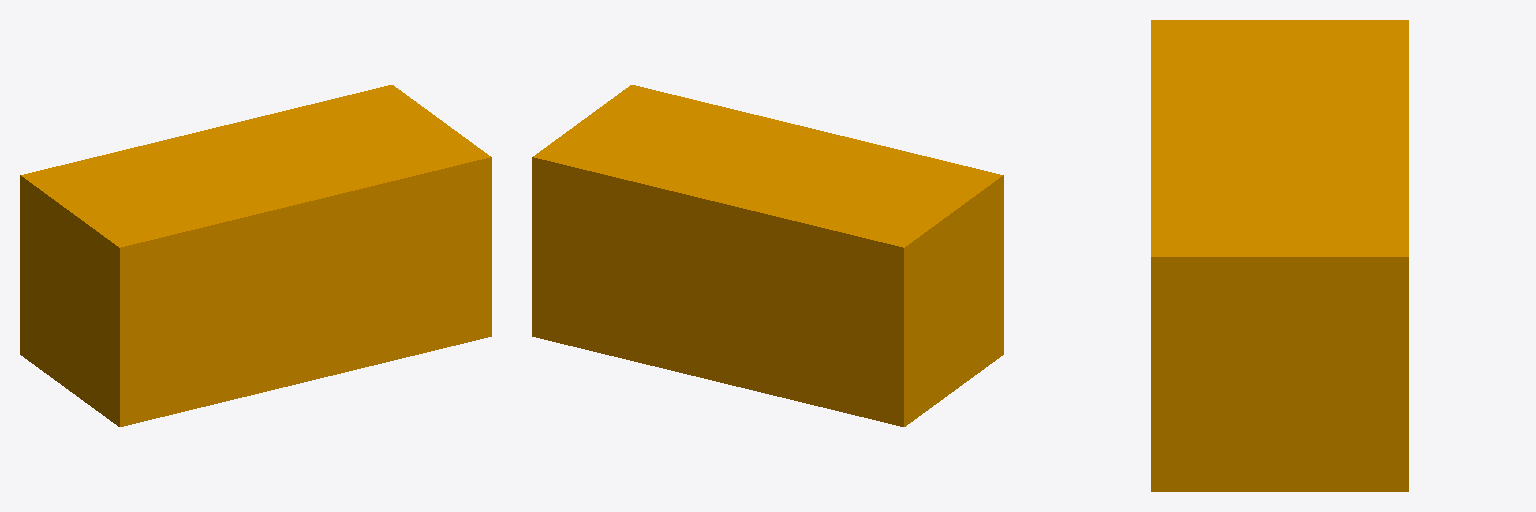
robot.urdf — object:
<?xml version="1.0"?>
<robot name="object">
  <link name="object">
    <visual>
      <origin xyz="0 0 0"/>
      <geometry>
        <mesh filename="package://object_datasets/3DPrintedShapes/meshes/13x6_cuboid.dae"/>
      </geometry>
    </visual>
    <collision>
      <origin xyz="0 0 0"/>
      <geometry>
        <mesh filename="package://object_datasets/3DPrintedShapes/meshes/13x6_cuboid.obj"/>
      </geometry>
    </collision>
    <inertial>
      <mass value="0.100"/>
      <inertia ixx="0.01" ixy="0.00" ixz="0.00" iyy="0.01" iyz="0.0" izz="0.01"/>
      <!-- inertia is recomputed when laoding asset  -->
    </inertial>
  </link>
</robot>

--- Render facts (derived) ---
The picture shows the robot from 3 angles, left to right: view 1: azimuth 30°, elevation 25°; view 2: azimuth 150°, elevation 25°; view 3: azimuth 270°, elevation 25°; orthographic projection.
Model object with 1 links and 0 joints (none), rooted at object, posed all joints at 0.
Links seen in each view (by area): view 1: object; view 2: object; view 3: object.
Link boxes in pixels (bbox=[...]): object: bbox=[20, 85, 491, 426]; object: bbox=[532, 85, 1003, 426]; object: bbox=[1151, 20, 1408, 491].
Bounding box of the posed robot: 0.13 × 0.06 × 0.06 m (x, y, z).
1 mesh visuals loaded from 1 distinct referenced files (1 Collada DAE).
